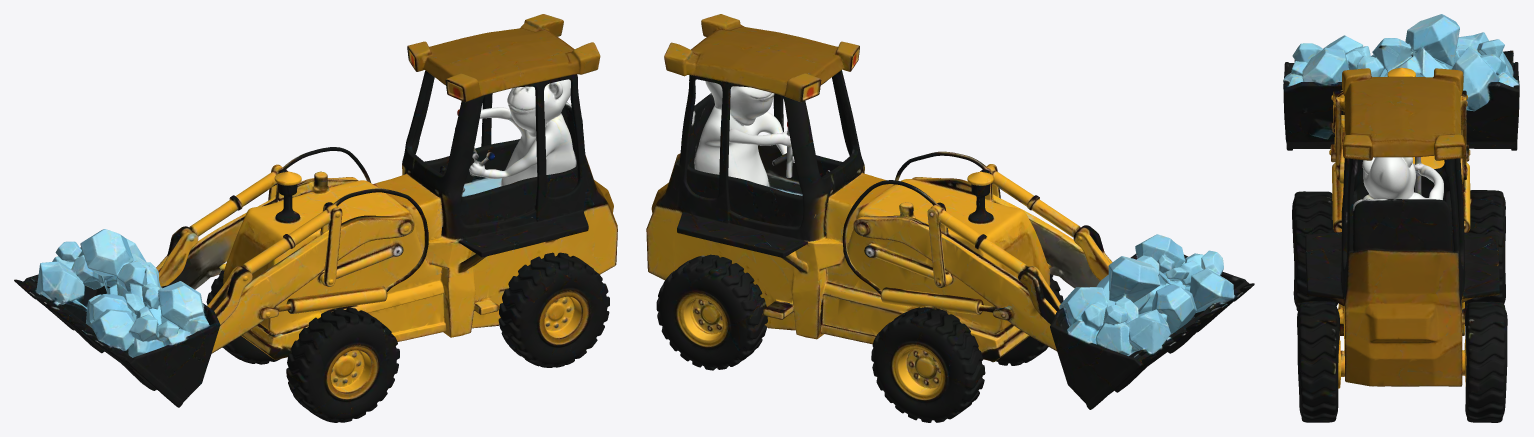
File: dozer.glb
The picture shows the model from 3 angles, left to right: view 1: azimuth 30°, elevation 25°; view 2: azimuth 150°, elevation 25°; view 3: azimuth 270°, elevation 25°; orthographic projection. The views are drawn at different scales.
Visible parts, largest first — view 1: mesh_node; view 2: mesh_node; view 3: mesh_node.
Part boxes in pixels (<box>): mesh_node: <box>14,14,617,422</box>; mesh_node: <box>646,14,1254,422</box>; mesh_node: <box>1283,14,1519,422</box>.
Size of the model in its own units: 1.9 by 0.9768 by 0.677.
Materials: 1 (1 with a texture image).
